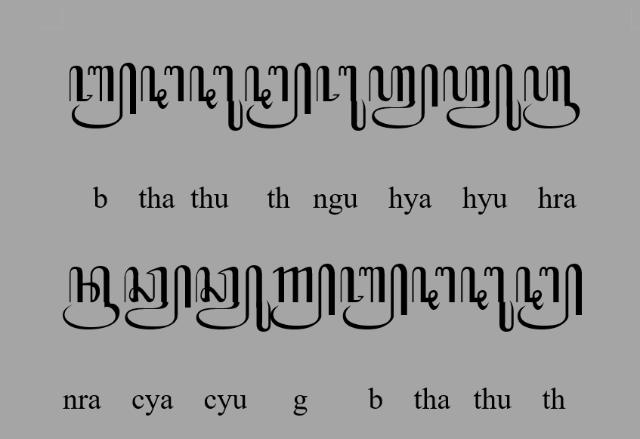-b: (69, 63, 137, 130), (340, 264, 408, 330)
-g: (272, 262, 336, 330)
-th: (244, 62, 312, 130), (515, 264, 583, 330)
cy: (125, 265, 191, 331)
cyu: (195, 265, 271, 333)
hr: (523, 66, 579, 128)
hy: (368, 63, 438, 129)
hyu: (442, 64, 522, 132)
ngu: (316, 64, 366, 132)
nr: (62, 266, 120, 330)
th: (140, 64, 186, 110), (412, 265, 456, 311)
thu: (189, 65, 243, 132), (460, 266, 514, 332)
